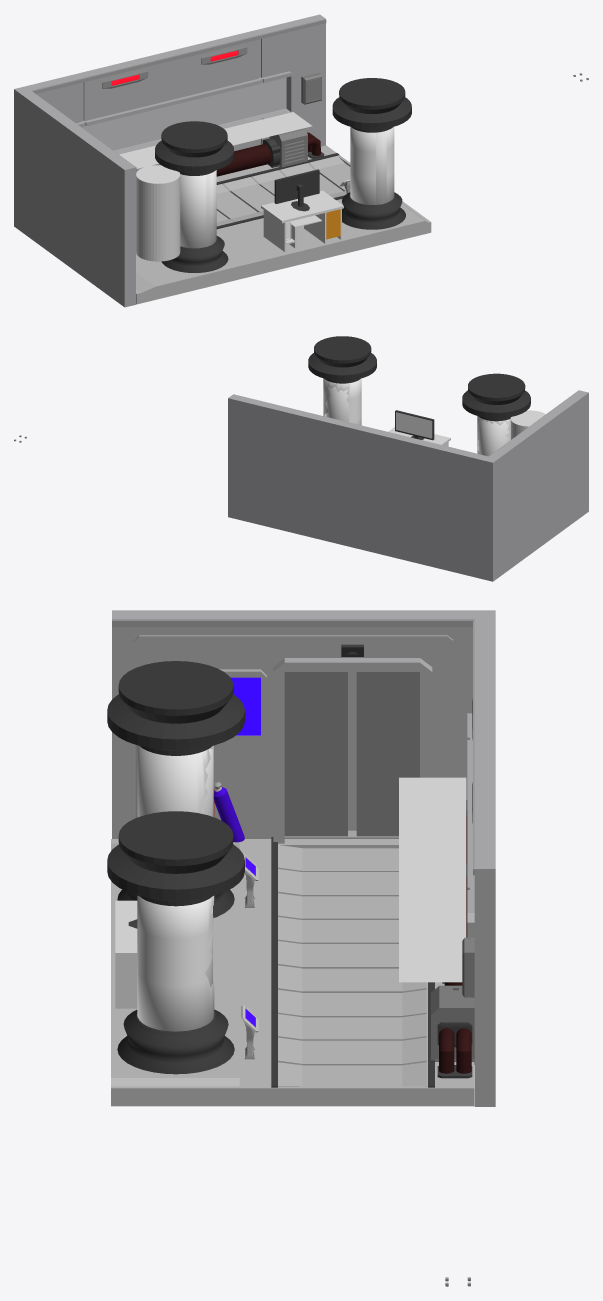
Rendered from Practica.glb.
3 renders of one model, top to bottom at view 1: azimuth 30°, elevation 25°; view 2: azimuth 150°, elevation 25°; view 3: azimuth 270°, elevation 25°, orthographic. The views are drawn at different scales.
Parts seen in each view (by area): view 1: Paredes, Piso, Ventana, Cristal capsula prueba, Parte superior capsula 1, Parte superior capsula 3, Cristal capsula 1, Cristal capsula 3, Cube.001, Plano, Base capsula 1, Base capsula 3 (+8 smaller); view 2: Paredes, Parte superior capsula 1, Parte superior capsula 3, Cristal capsula 1, Cilindro Tuberia 1, Plane, Cilindro Tuberia 1.001, Cristal capsula prueba; view 3: Piso, Paredes, Plano, Puerta izq, Parte superior capsula 1, Parte superior capsula 3, Cristal capsula 1, Puerta der, Base capsula 1, Cristal capsula 3, Linea pared 2, Cube.001 (+3 smaller).
Part boxes in pixels (x1,y1,x2,y2): Paredes: (14,14,325,307); Piso: (136,145,431,304); Ventana: (83,78,286,150); Cristal capsula prueba: (136,165,180,261); Parte superior capsula 1: (332,78,411,132); Parte superior capsula 3: (155,121,234,175); Cristal capsula 1: (350,126,394,204); Cristal capsula 3: (180,170,216,248); Cube.001: (261,190,343,251); Plano: (119,112,312,168); Base capsula 1: (342,192,405,229); Base capsula 3: (161,236,228,272); Paredes: (228,390,588,581); Parte superior capsula 1: (308,336,376,383); Parte superior capsula 3: (462,373,530,421); Cristal capsula 1: (323,378,361,425); Cilindro Tuberia 1: (478,417,509,456); Plane: (396,412,432,438); Cilindro Tuberia 1.001: (326,386,350,422); Cristal capsula prueba: (510,410,545,439); Piso: (111,839,474,1106); Paredes: (112,610,495,1106); Plano: (399,777,466,982); Puerta izq: (284,672,347,836); Parte superior capsula 1: (107,811,244,906); Parte superior capsula 3: (107,661,244,755); Cristal capsula 1: (138,896,214,1031); Puerta der: (356,672,419,836); Base capsula 1: (117,1009,234,1074); Cristal capsula 3: (139,746,213,816); Linea pared 2: (112,620,474,626); Cube.001: (115,900,137,1008).
Bounding box in the file's own units: 98.26 × 23.01 × 34.06.
